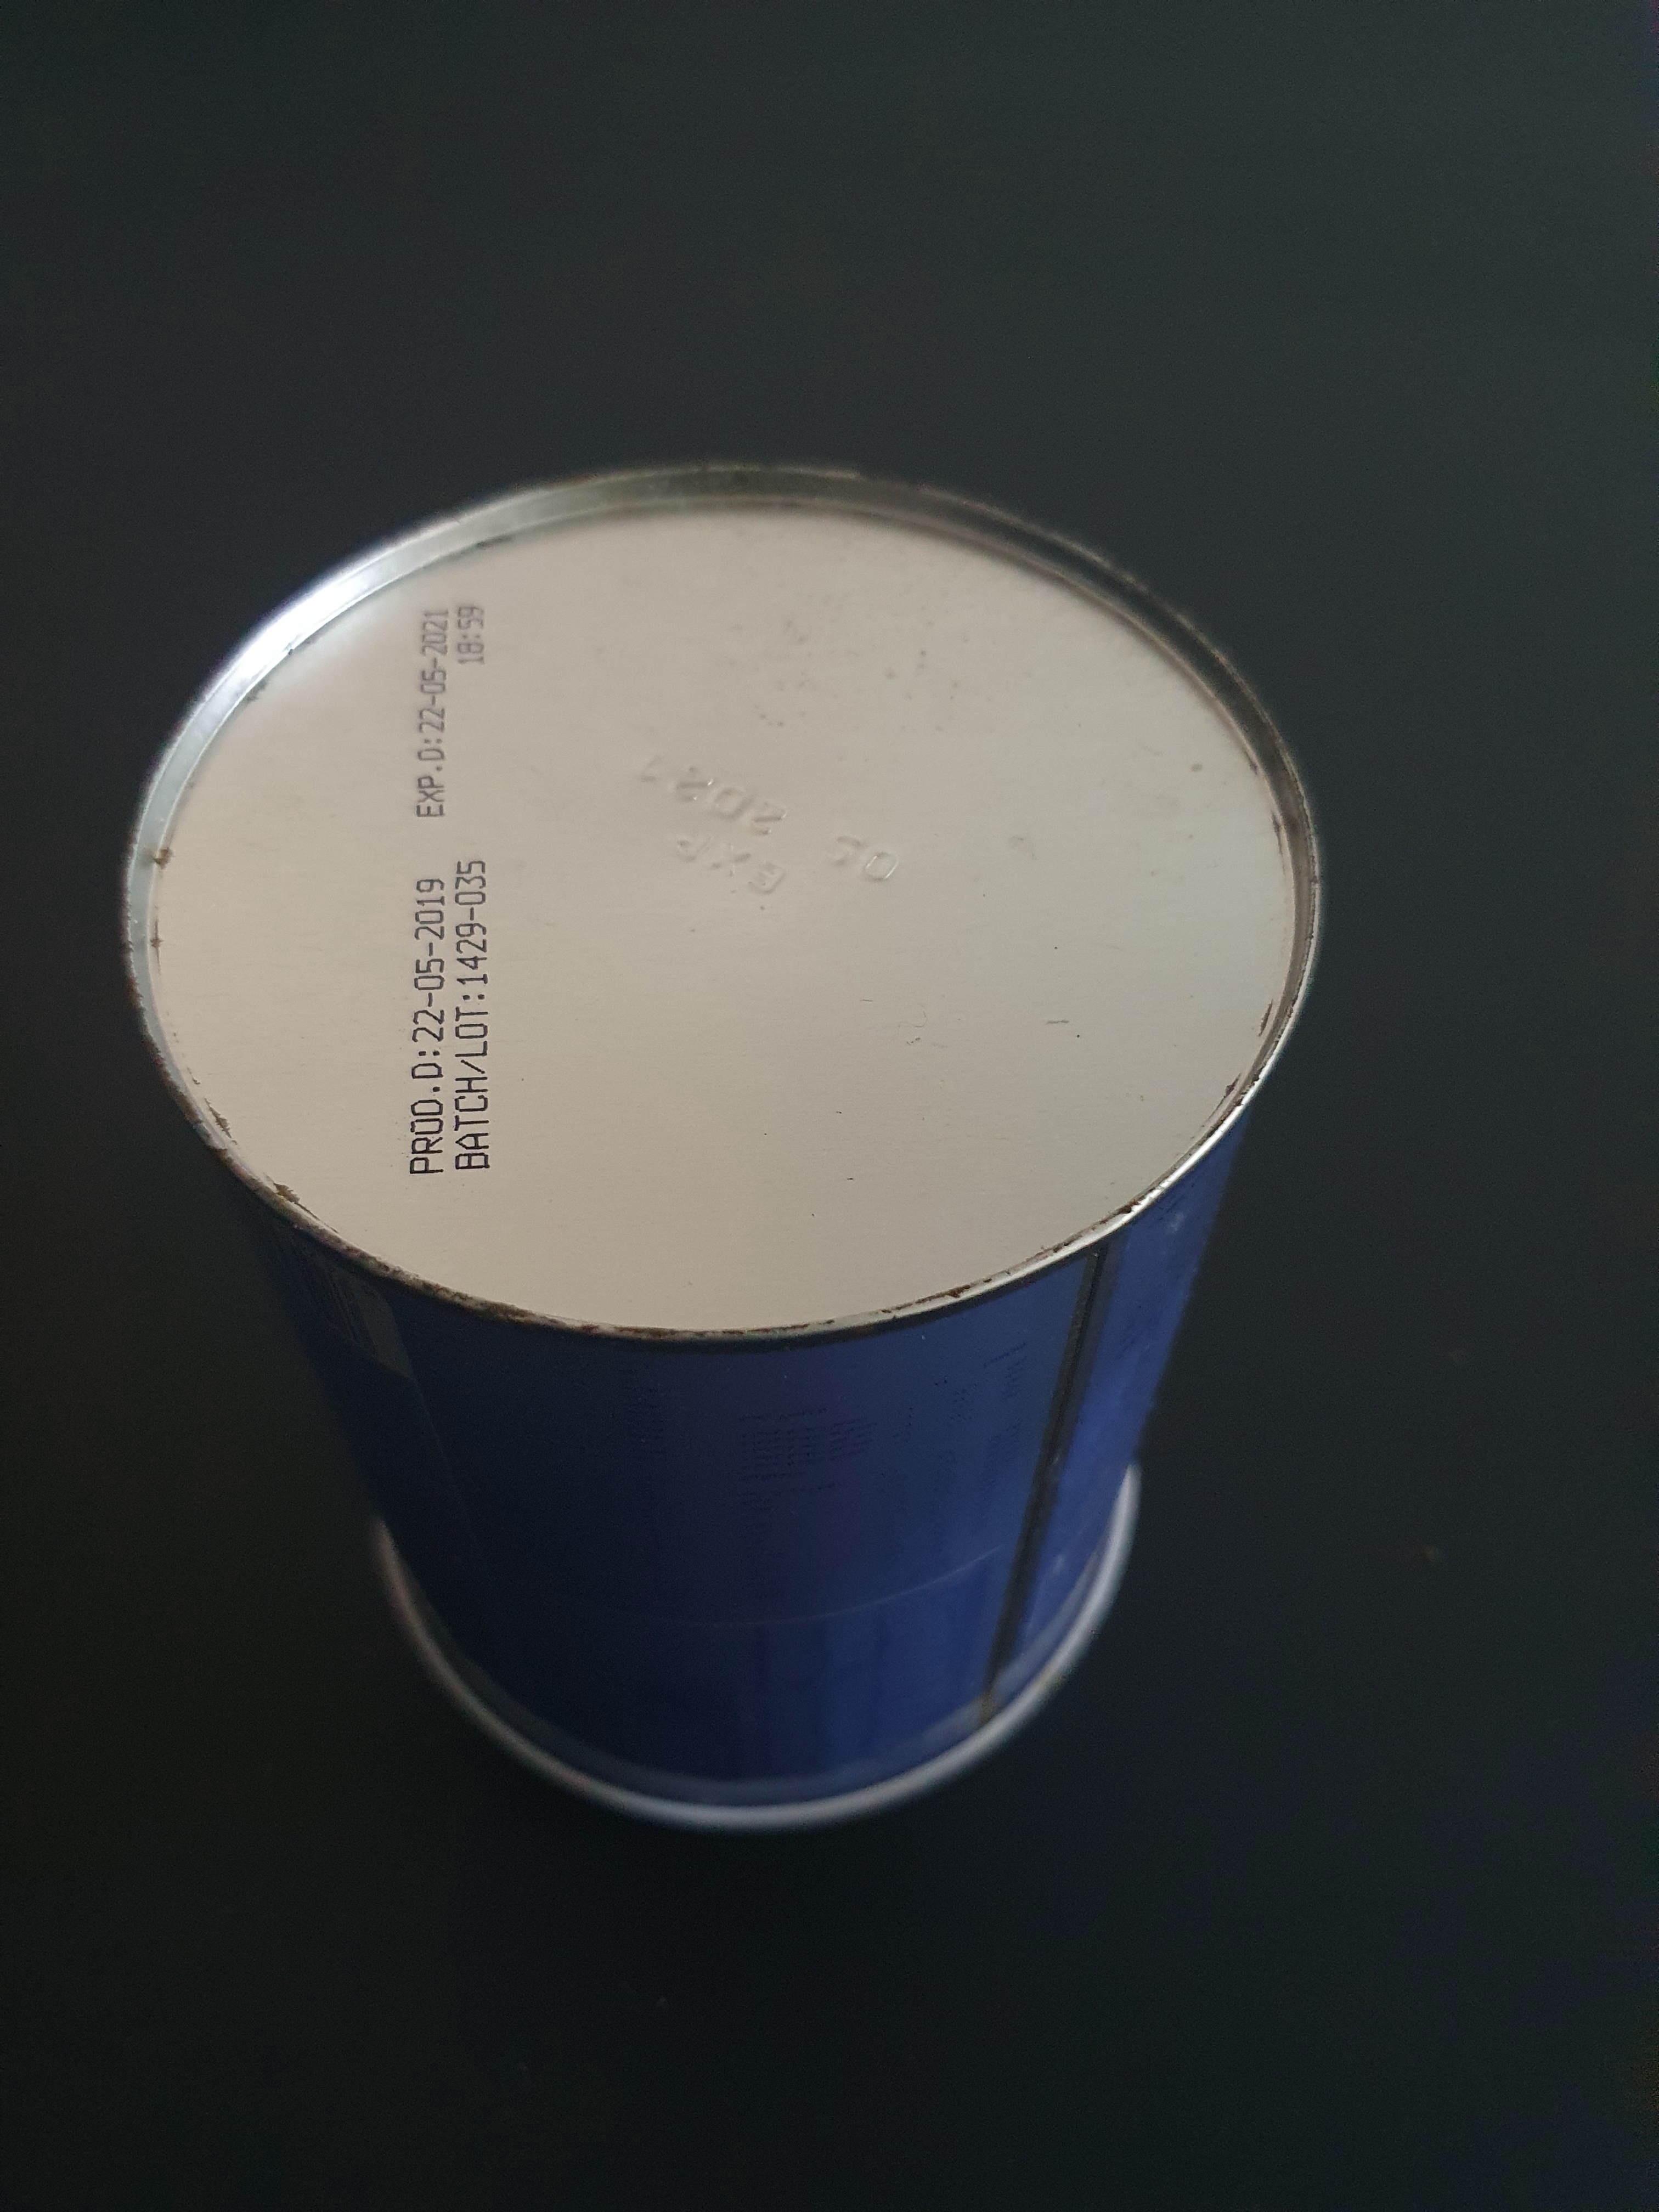metal: (85, 408, 1354, 1902)
